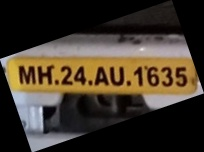character: (18, 64, 36, 85), (36, 63, 52, 86), (108, 64, 124, 86), (93, 65, 109, 86), (159, 65, 173, 87), (146, 65, 159, 86), (174, 65, 187, 86), (60, 64, 72, 86), (73, 65, 86, 85), (133, 65, 144, 87)
